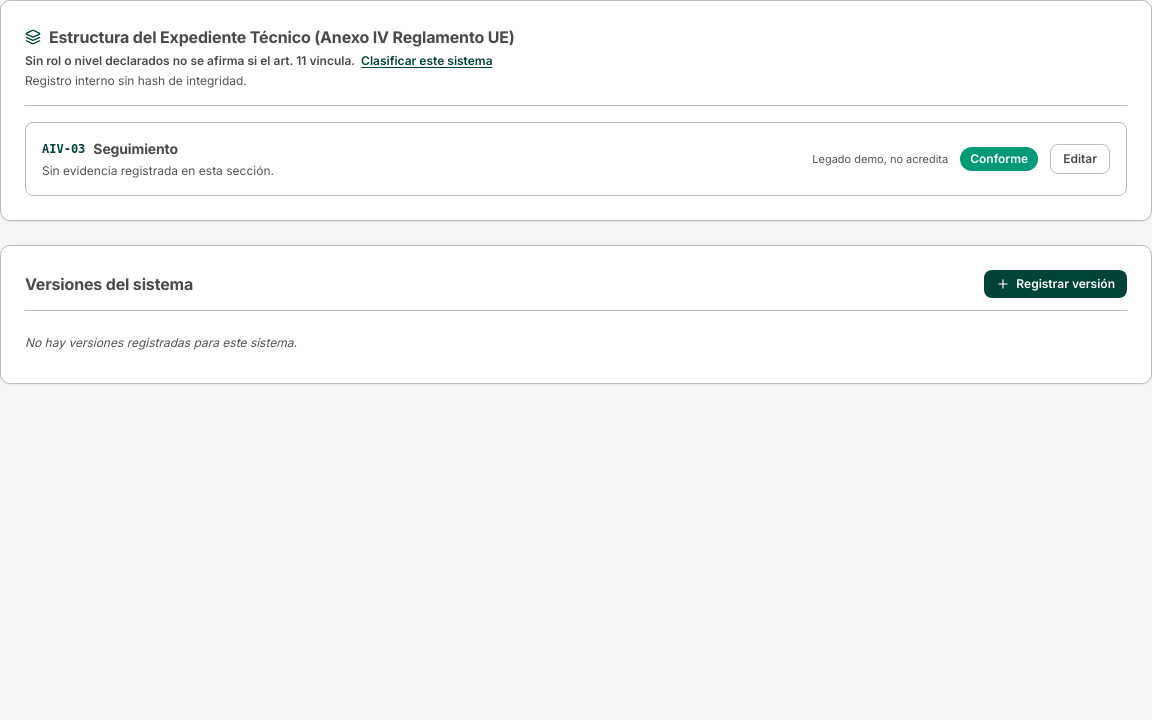
F1.T7 — el selector de la sección no ofrece estados que exigen revisor › una sección «Conforme» se edita sin ofrecer Conforme ni Cerrada
The image size is (1152, 720).
Click the button "Editar": coordinates (1080, 159) 1050,144 -> 1110,174
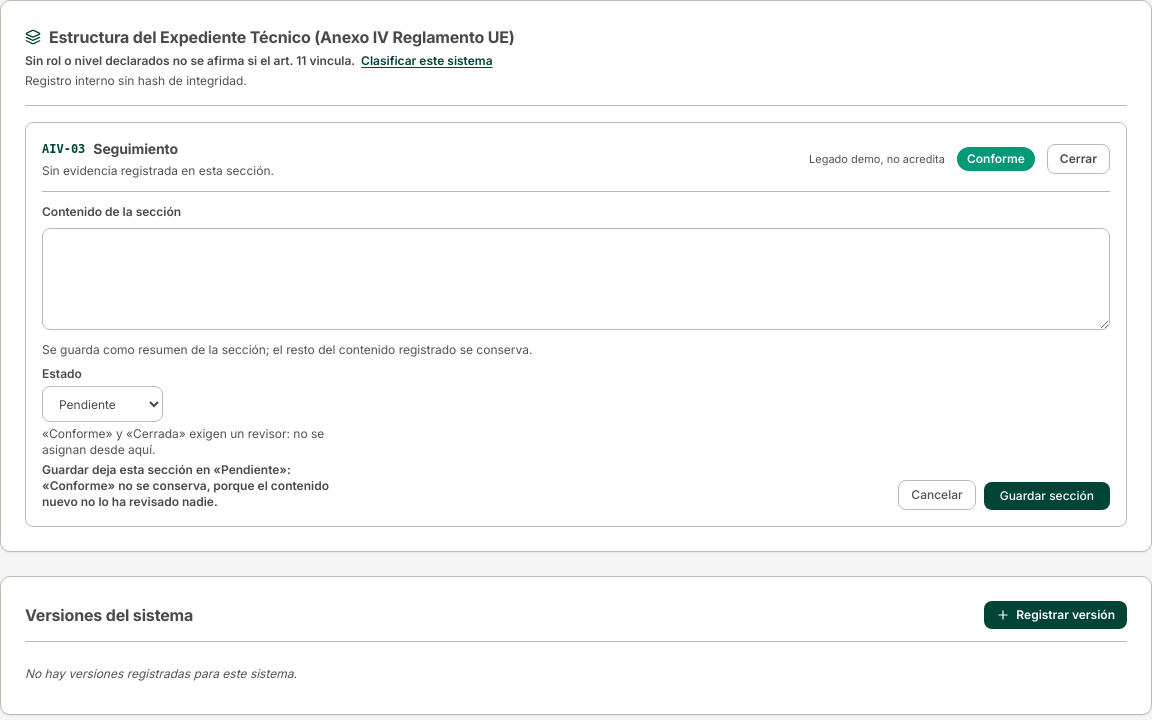
Check: the dropdown labelled "Estado" shows "Pendiente", box 42,386 -> 163,422
